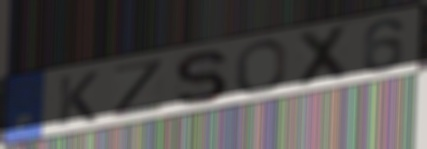6: (360, 16, 406, 74)
K: (55, 69, 101, 128)
O: (234, 38, 289, 96)
S: (172, 48, 230, 109)
X: (293, 21, 351, 91)
Z: (109, 56, 167, 121)
